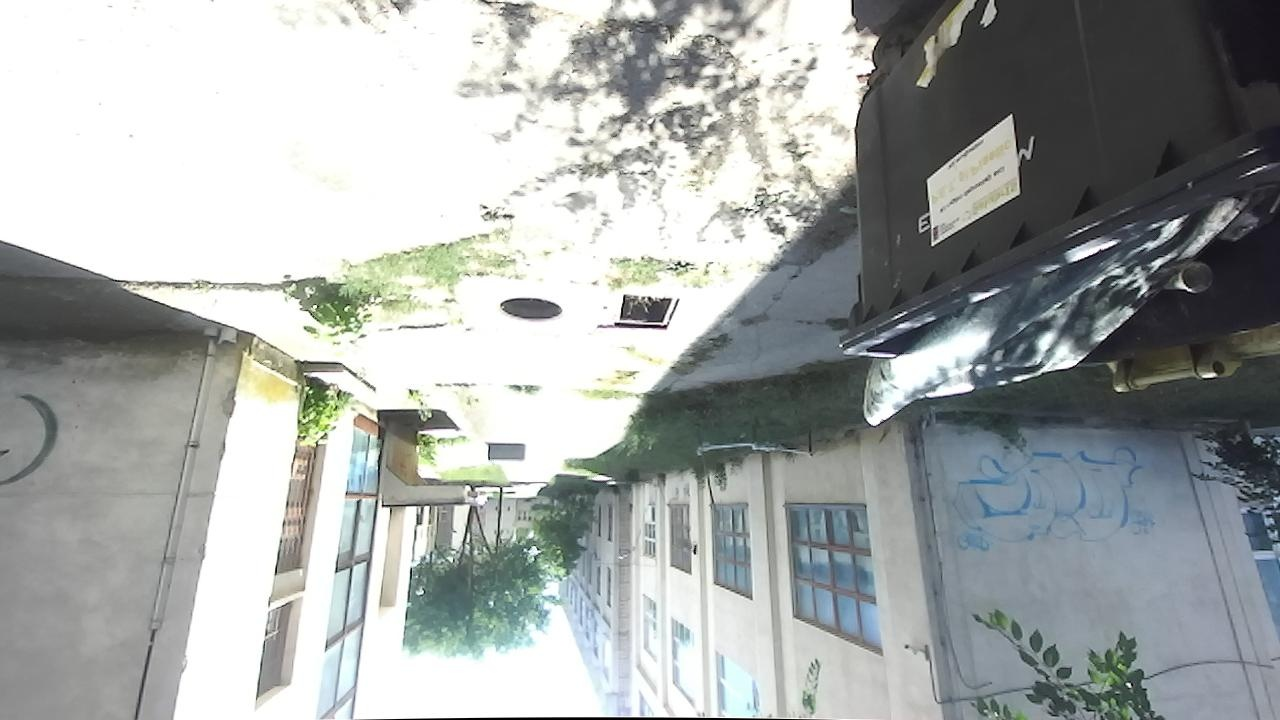drain: (615, 291, 683, 330), (495, 295, 571, 324)
